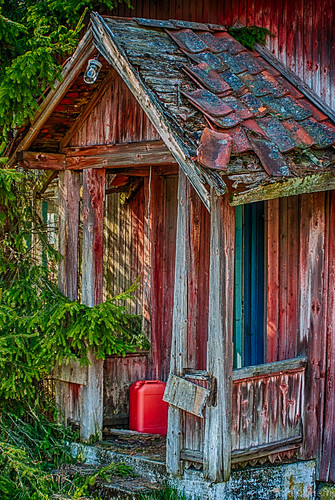building: (35, 14, 329, 495)
